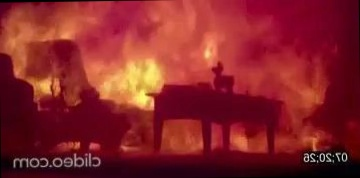fire: (0, 0, 351, 150)
